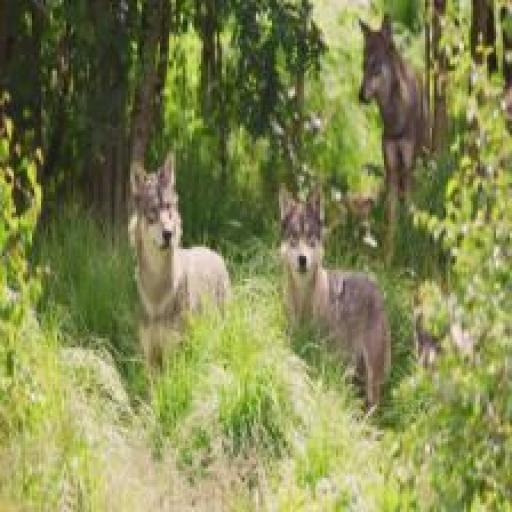wolf: (105, 130, 242, 439), (272, 178, 414, 452), (340, 0, 471, 209)
